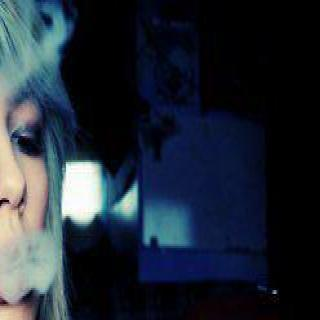smoke: (0, 225, 60, 297)
